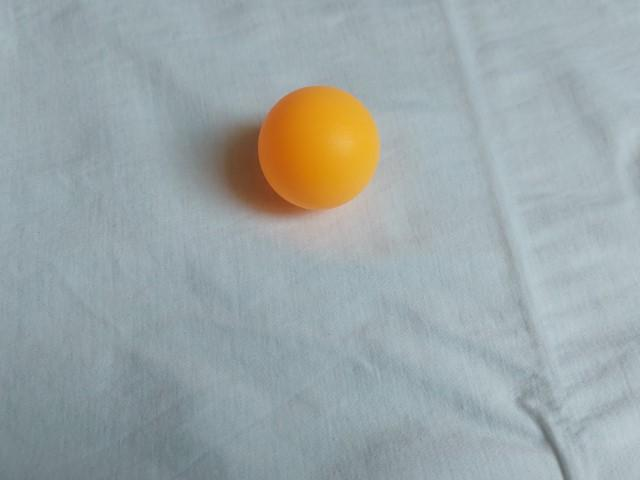oball: (249, 82, 389, 215)
